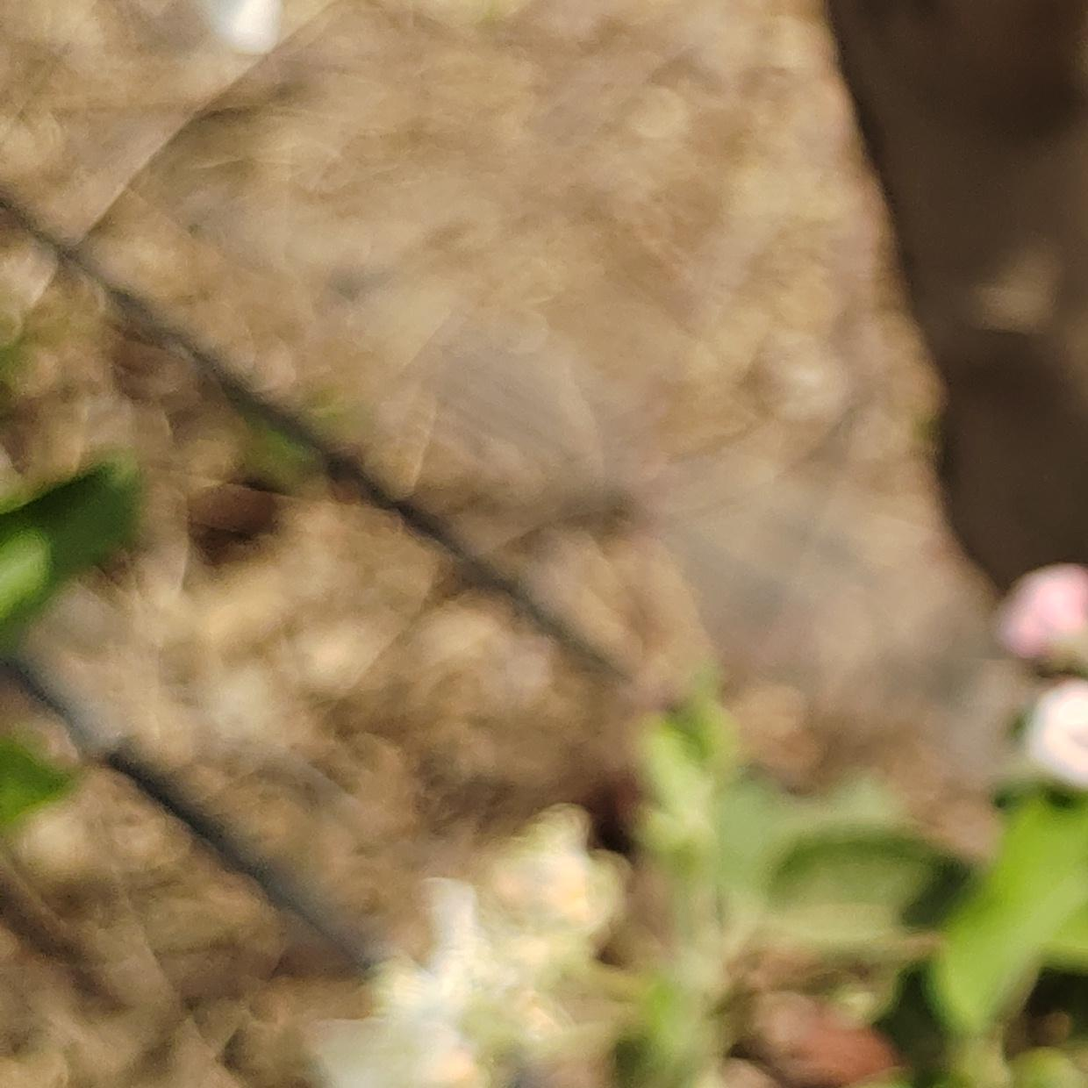apple_flower: (311, 806, 619, 1088)
